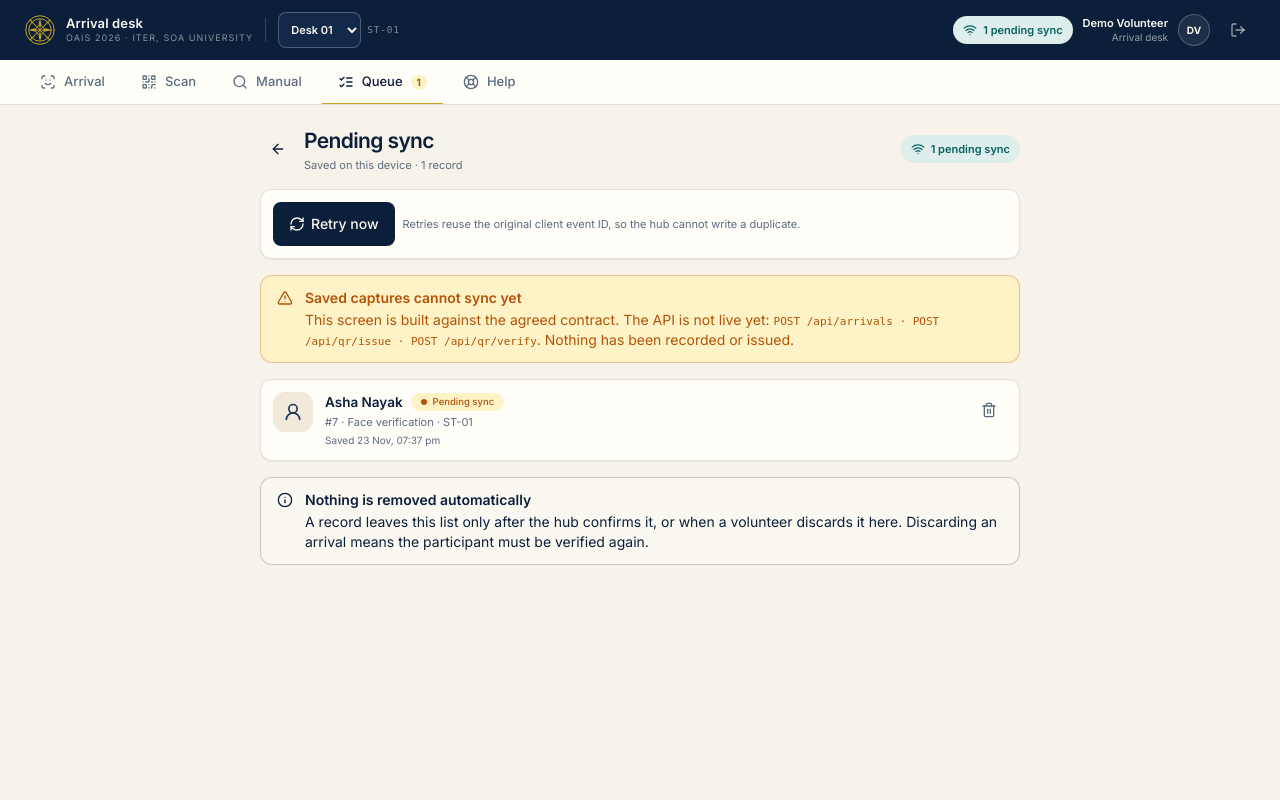
Test: Offline queue, sync status and badge › lists saved records and discards only after confirmation
Expected: the text "Asha Nayak" is shown, [325,392,403,412]
Expected: the text "Saved captures cannot sync yet" is shown, [305,289,522,306]
Click the button named "Discard record for Asha Nayak": coordinates (989, 410) [971,392,1007,428]
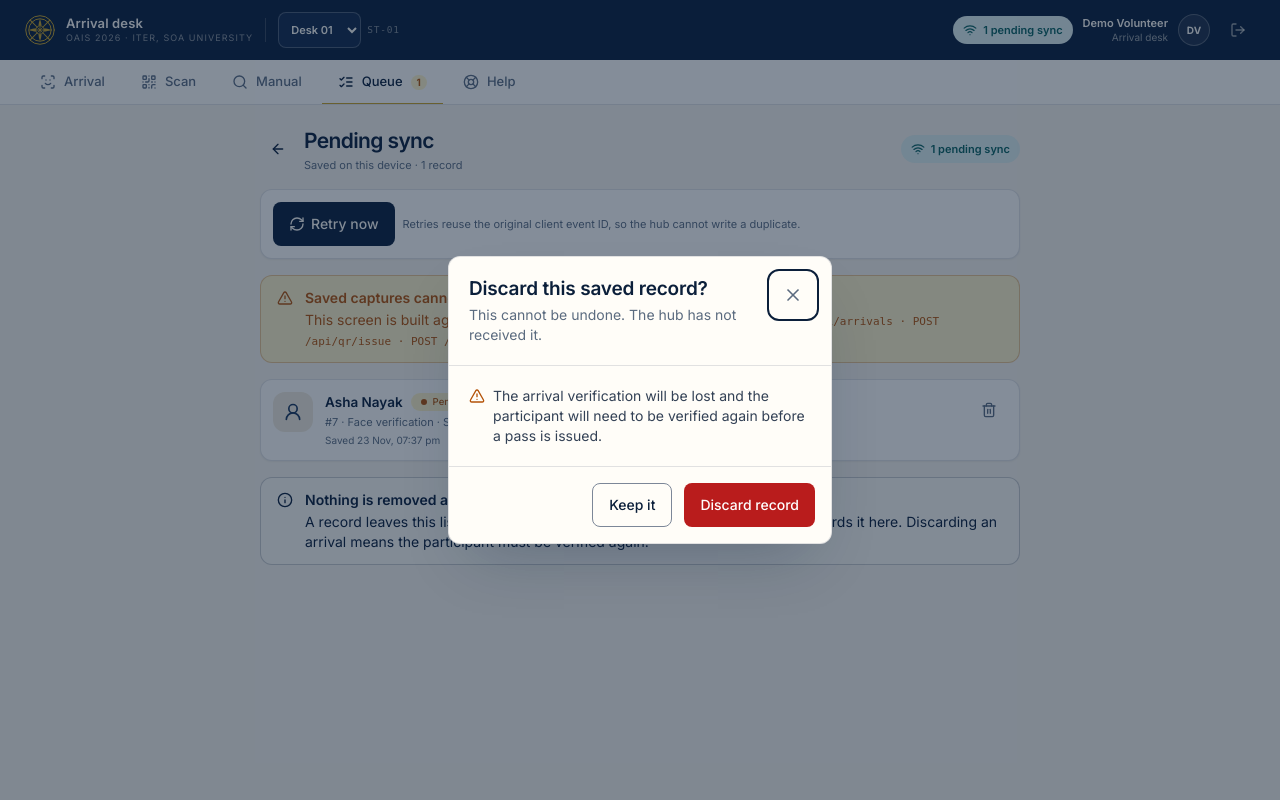
Click the button "Discard record": coordinates (750, 505) [684,483,815,527]
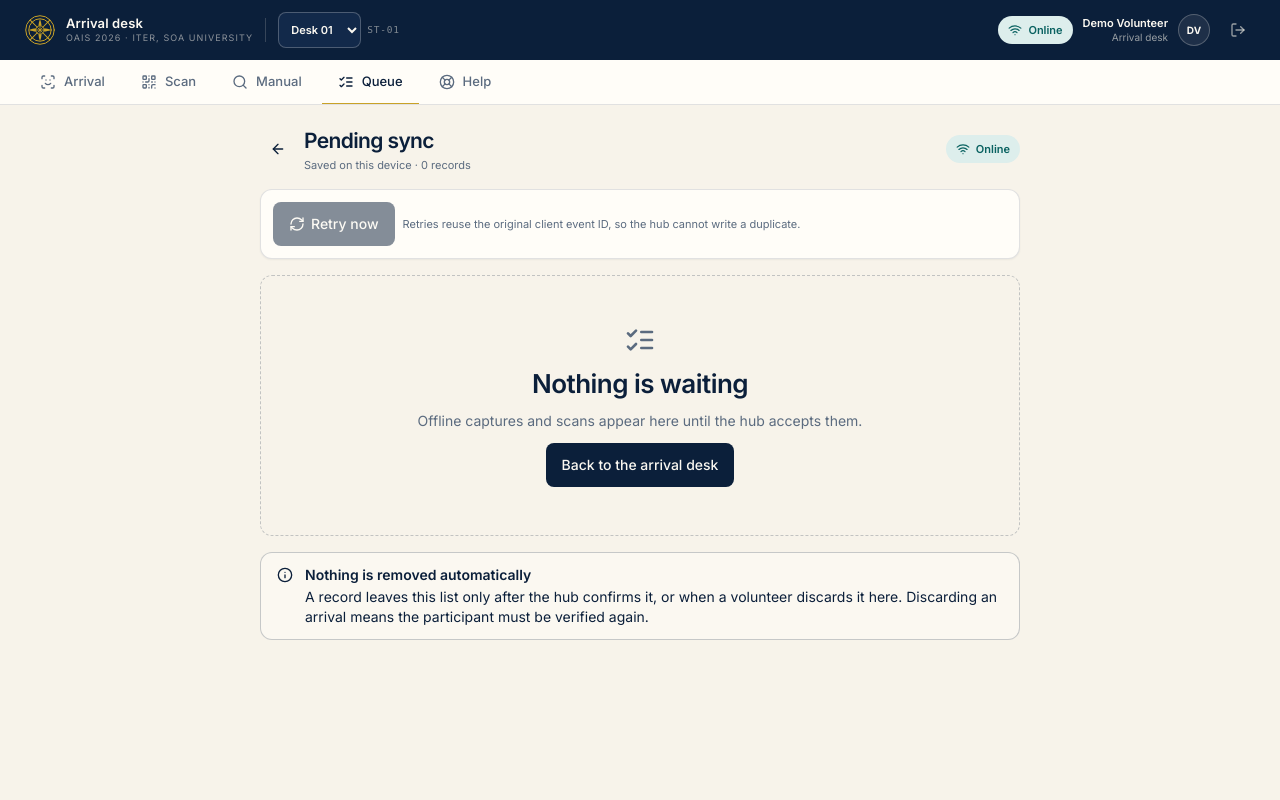
Expected: the heading "Nothing is waiting" is shown, [532,368,748,399]
